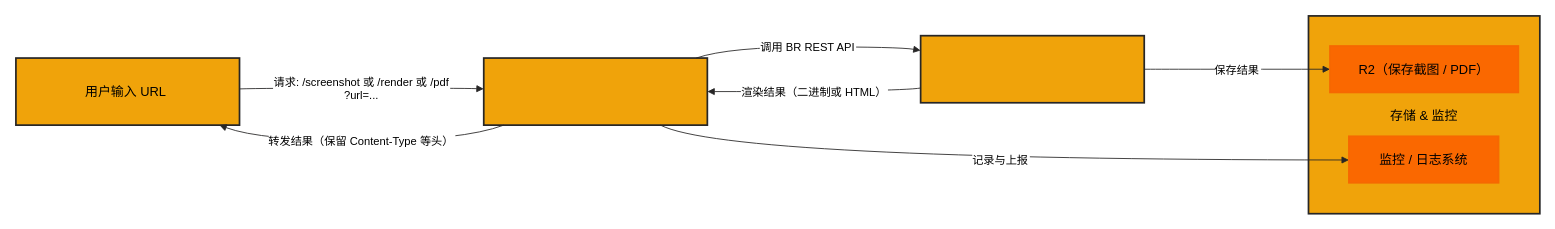
Image size: 1555x229. Some labels were removed from this diagram. Here are the shapes that lost their labels. From the top down, the centre of each, then its label:
pixel 1032 68: 托管无头浏览器 返回截图 / PDF / 渲染后 HTML
pixel 595 91: 鉴权 / 限流 / 缓存 / 白名单 （验证 API Key）
